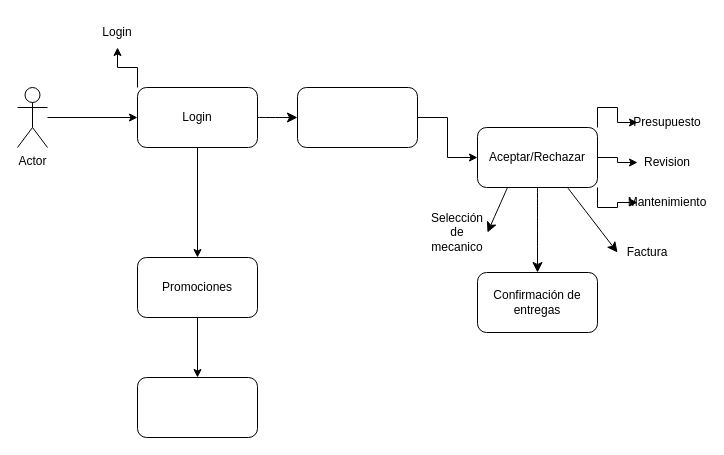
Image size: 724x455. Some labels were removed from this diagram. The shapes that lost their labels are listed below. From the top down, each one's centre as x and y in pixels, then its label:
point (357, 117): Taller
point (197, 407): Ver
